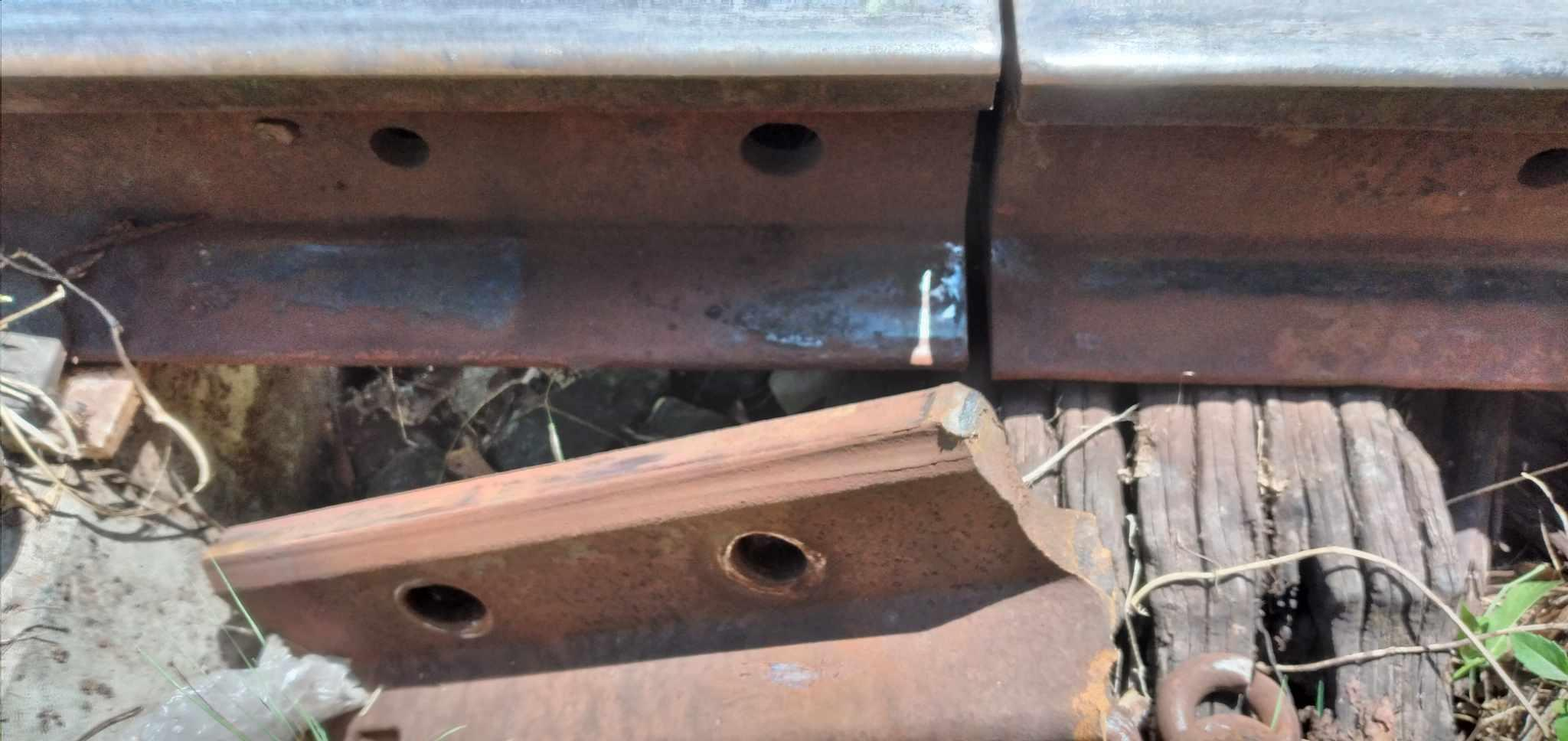railway-gap: (731, 0, 1229, 377)
